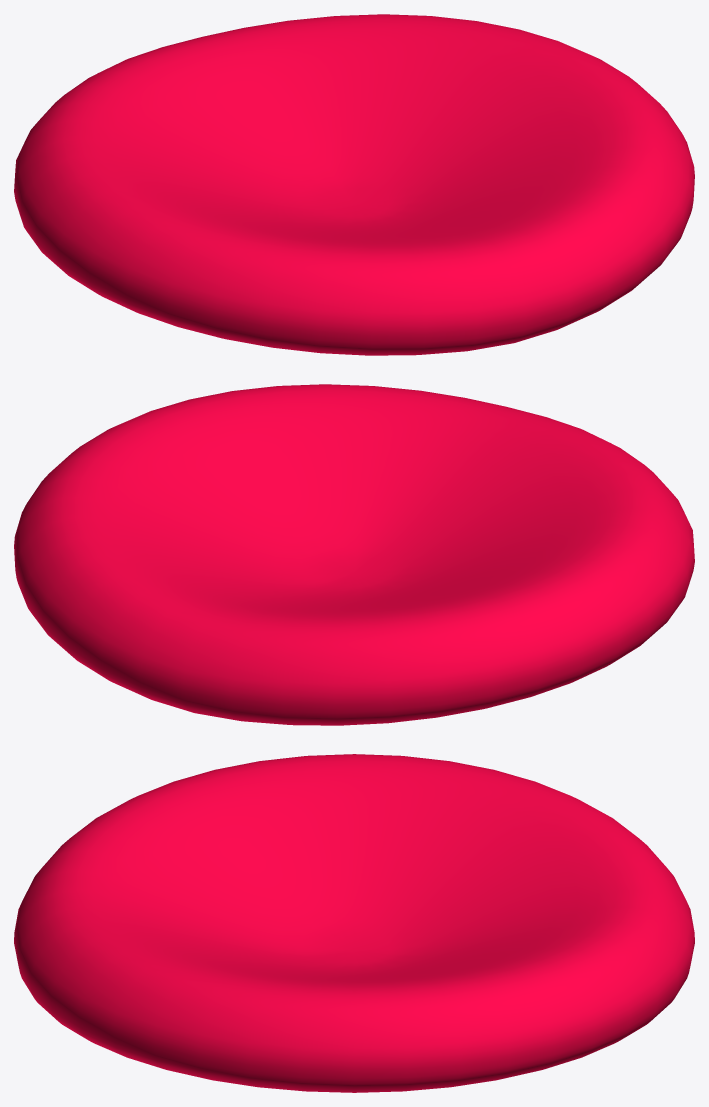
The model's file is Hemo.fbx.
The picture shows the model from 3 angles, top to bottom: view 1: azimuth 30°, elevation 25°; view 2: azimuth 150°, elevation 25°; view 3: azimuth 270°, elevation 25°; orthographic projection.
Visible parts, largest first — view 1: pSphere1; view 2: pSphere1; view 3: pSphere1.
Boxes of the visible parts, x1,y1,x2,y2 form: pSphere1: (14,14,694,355); pSphere1: (14,384,694,725); pSphere1: (14,754,694,1092).
Bounding box in the file's own units: 20.73 × 4.49 × 20.76.
